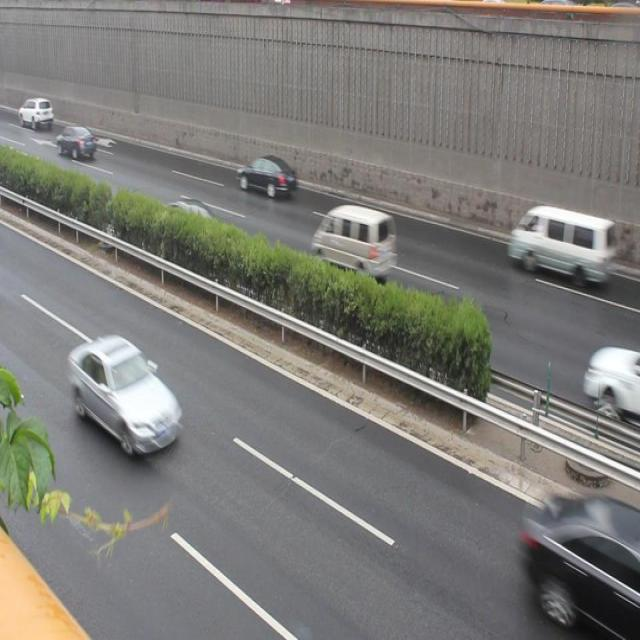car: (524, 495, 640, 640), (69, 335, 178, 450), (585, 344, 640, 430), (149, 196, 220, 257), (238, 153, 294, 201), (56, 122, 97, 162)
truck: (506, 203, 614, 292), (307, 205, 394, 283)
